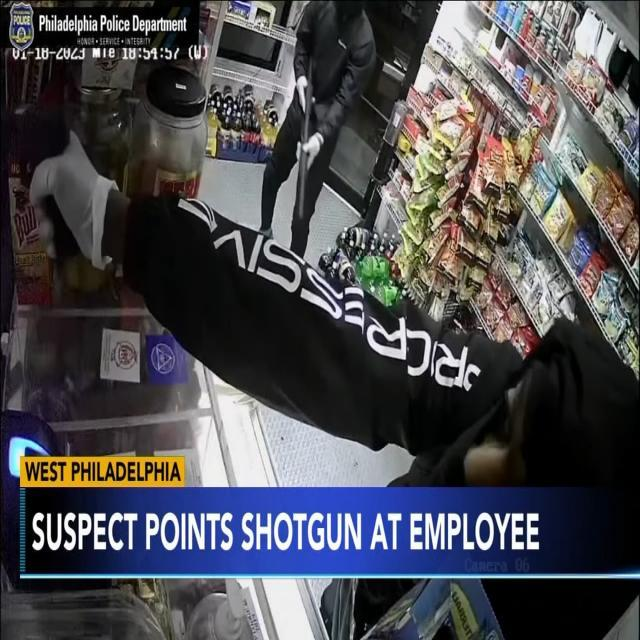weapon: (0, 94, 79, 268), (288, 56, 324, 230)
